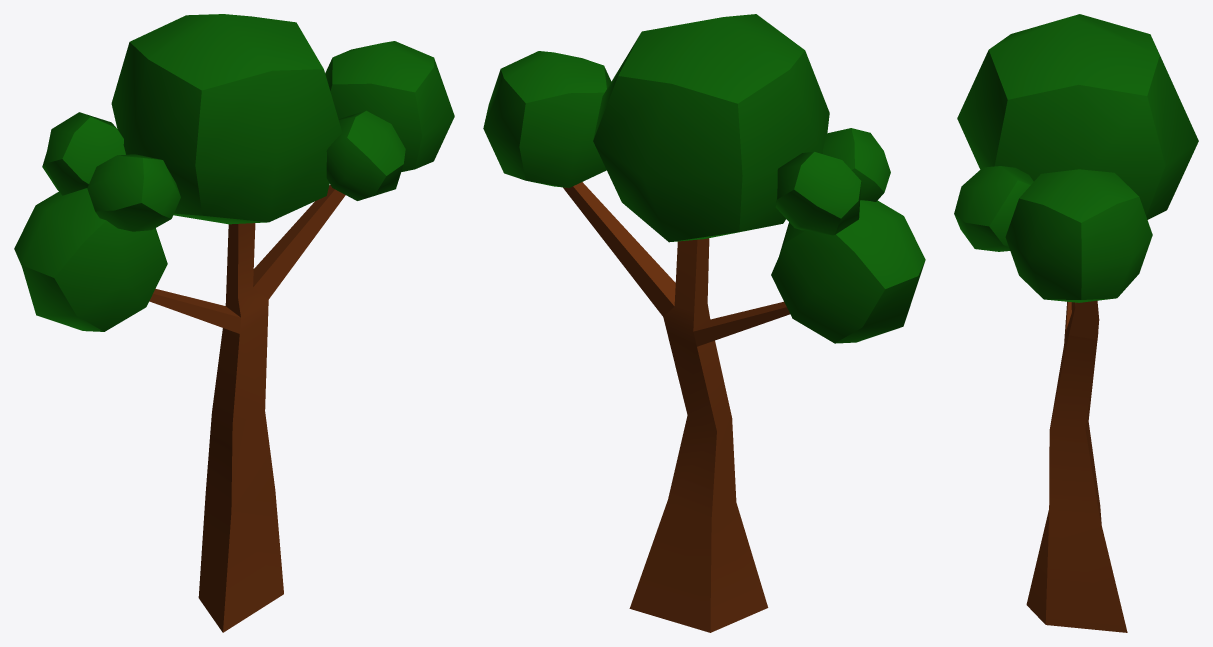
File: LowPolyTree_more.fbx
3 renders of one model, left to right at view 1: azimuth 30°, elevation 25°; view 2: azimuth 150°, elevation 25°; view 3: azimuth 270°, elevation 25°, orthographic.
Visible parts, largest first — view 1: TreeTrunk_002; view 2: TreeTrunk_002; view 3: TreeTrunk_002.
Part boxes in pixels (x1=…): TreeTrunk_002: x1=14, y1=14, x2=454, y2=632; TreeTrunk_002: x1=483, y1=14, x2=925, y2=632; TreeTrunk_002: x1=954, y1=14, x2=1198, y2=632.
Size of the model in its own units: 74.15 by 99.5 by 36.85.
